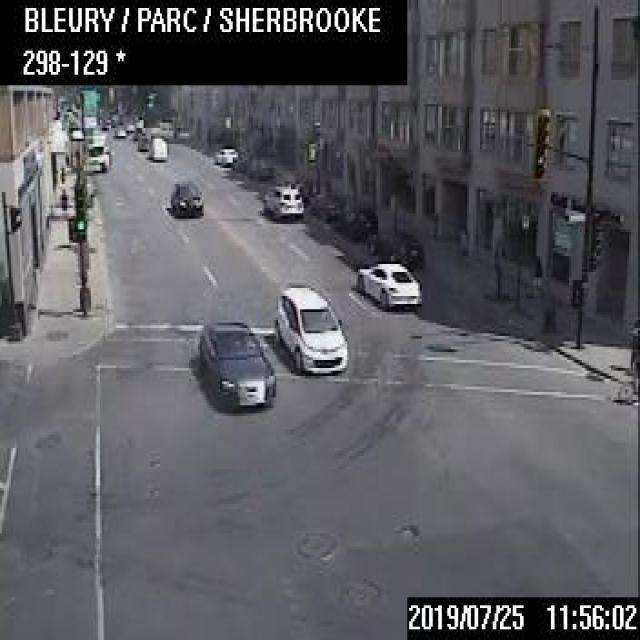pedestrian: (615, 317, 638, 402)
vehicle: (198, 318, 276, 411), (272, 284, 347, 373), (354, 262, 420, 308), (367, 231, 422, 266), (260, 181, 304, 217), (334, 205, 376, 238), (169, 178, 202, 216), (85, 130, 112, 169), (311, 192, 342, 219), (149, 130, 167, 160), (213, 145, 235, 163), (172, 123, 188, 141), (136, 131, 147, 149), (112, 122, 124, 135)
